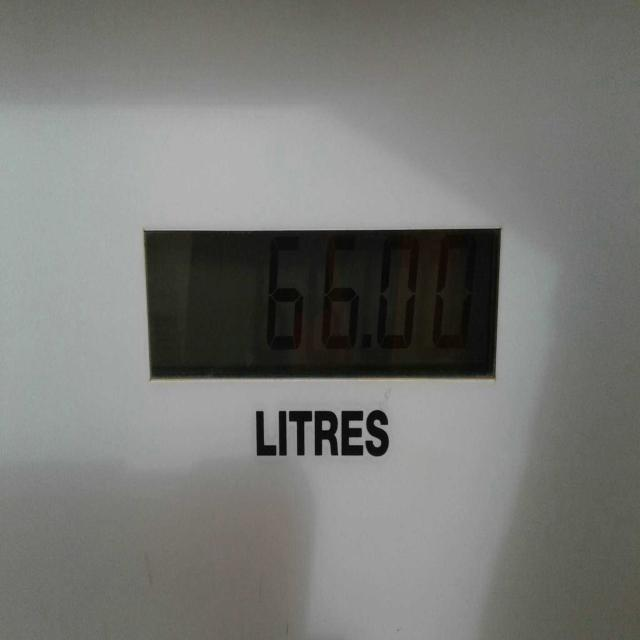.: (358, 327, 376, 362)
0: (375, 238, 423, 361), (432, 232, 482, 350)
6: (262, 232, 314, 363), (317, 232, 363, 362)
